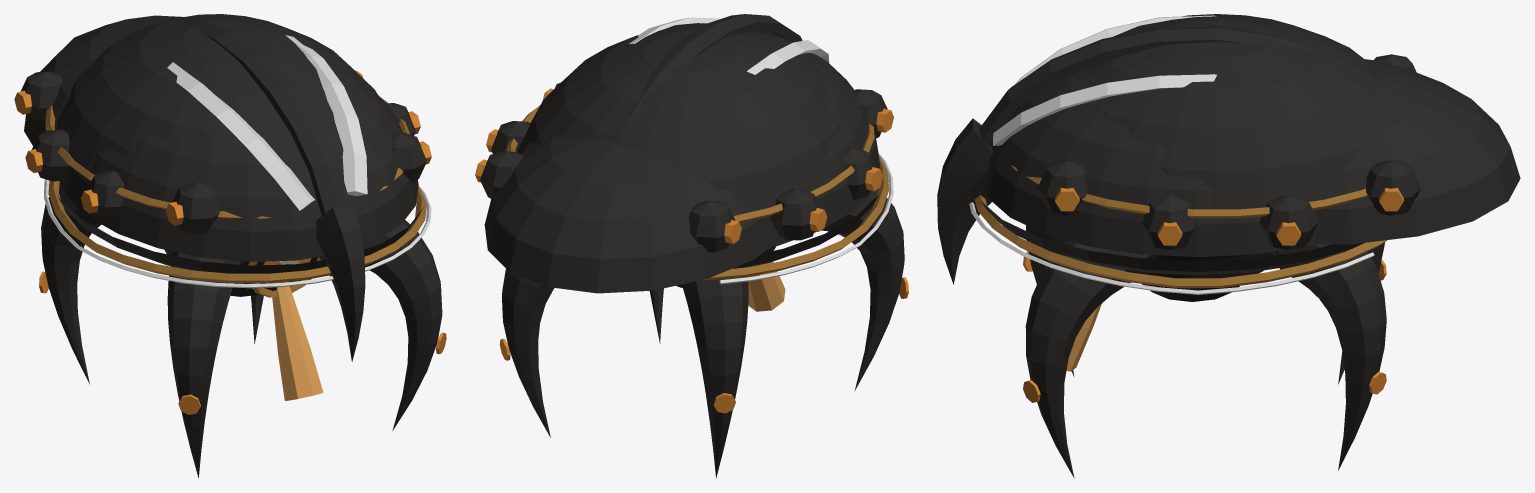
File: gunship_t2.glb
The picture shows the model from 3 angles, left to right: view 1: azimuth 30°, elevation 25°; view 2: azimuth 150°, elevation 25°; view 3: azimuth 270°, elevation 25°; orthographic projection. The views are drawn at different scales.
Visible parts, largest first — view 1: body; view 2: body; view 3: body.
Boxes of the visible parts, x1,y1,x2,y2 form: body: (14,14,446,477); body: (475,14,908,478); body: (937,14,1520,478).
Size of the model in its own units: 7.2 by 7.84 by 10.35.
